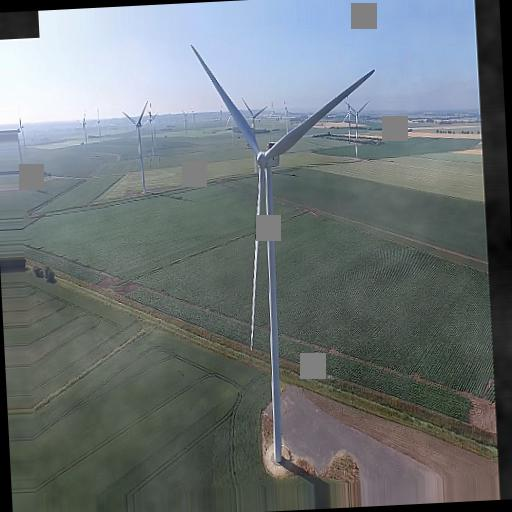wind turbine: (188, 45, 377, 465), (122, 99, 153, 192), (342, 100, 371, 156)
